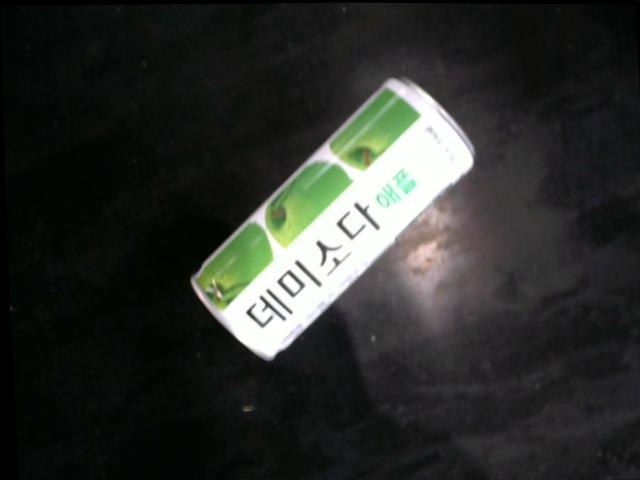can: (187, 73, 476, 363)
